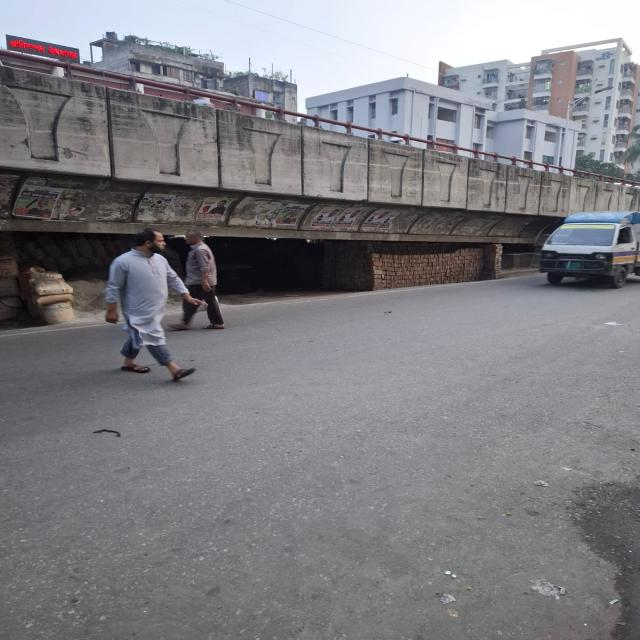person: (105, 228, 206, 381)
